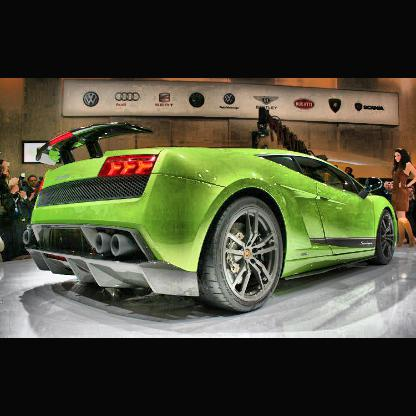Lamborghini Gallardo LP 570-4 Superleggera 2012: (21, 120, 400, 316)
